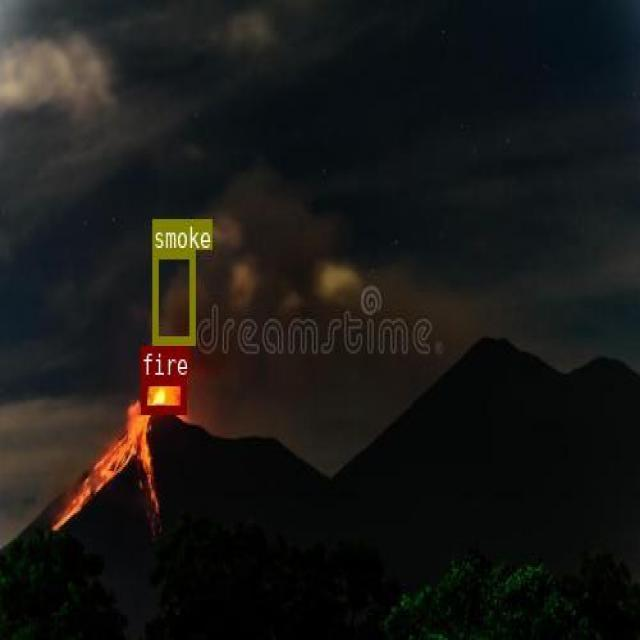fire: (140, 375, 185, 412)
smoke: (152, 249, 195, 344)
